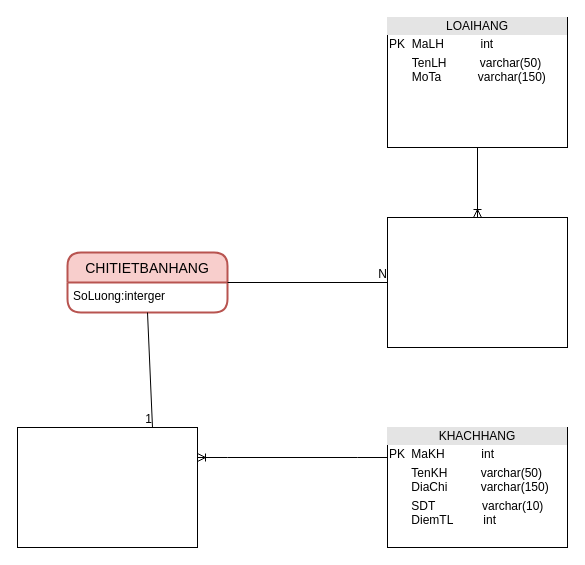
Some shapes in this 585 by 565 pixel diagram are drawn without their labels. The shapes that lost their labels are listed below. From the top down, each one's centre as x and y in pixels, then its label:
At point (477, 282): "HANGHOA PK MaHH int TenHH varchar(50) SoLuong varchar(150) GiaHH varchar(10)".
At point (107, 487): "HOADONBAN PK MaHDB int NgayHDB date SUMB int Khac int".
